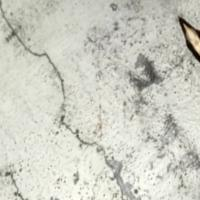crack: (1, 1, 79, 126)
